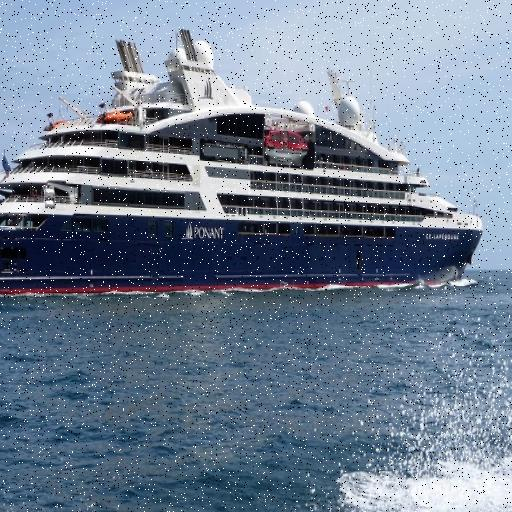cruises: (1, 21, 489, 305)
